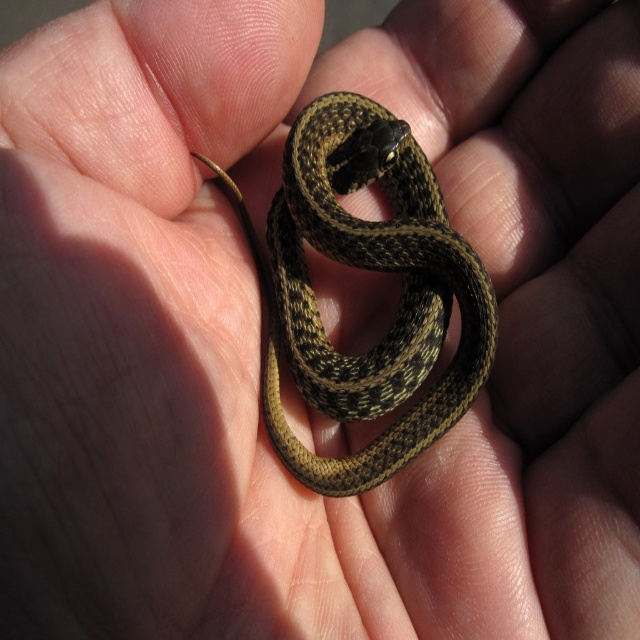Snake: (187, 88, 500, 510)
